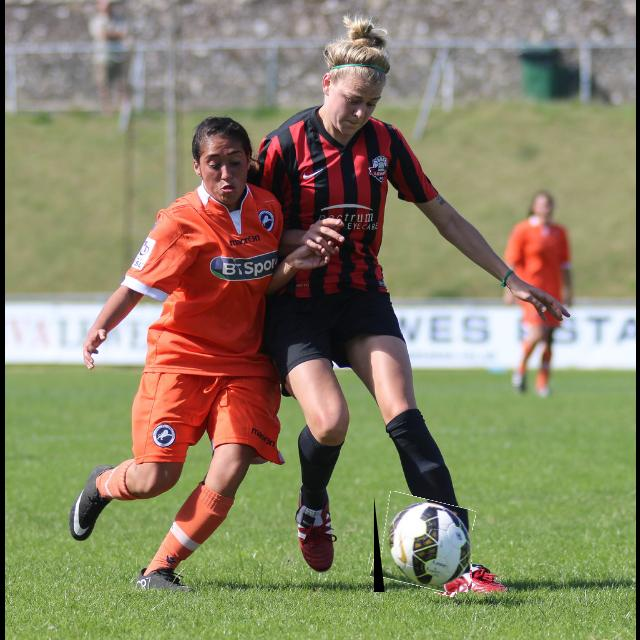Football: (374, 496, 472, 592)
